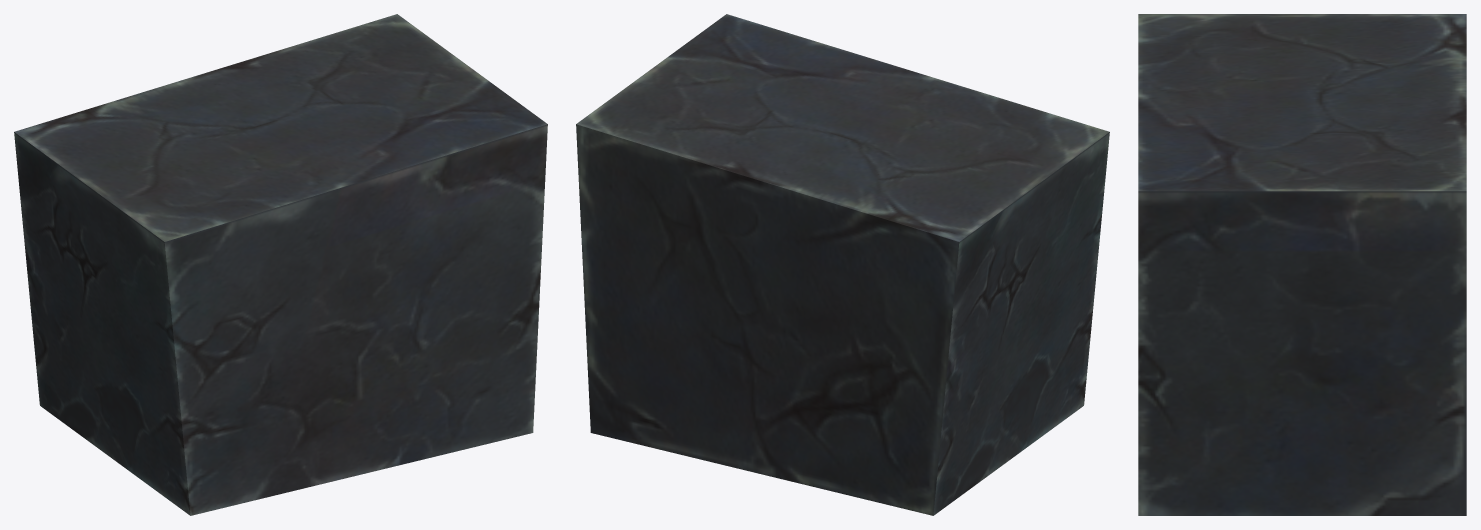
File: B_shikuai014.fbx
The picture shows the model from 3 angles, left to right: view 1: azimuth 30°, elevation 25°; view 2: azimuth 150°, elevation 25°; view 3: azimuth 270°, elevation 25°; orthographic projection. The views are drawn at different scales.
Parts seen in each view (by area): view 1: B_shikuai014; view 2: B_shikuai014; view 3: B_shikuai014.
Boxes of the visible parts, x1,y1,x2,y2 form: B_shikuai014: (14,14,547,515); B_shikuai014: (576,14,1109,515); B_shikuai014: (1138,14,1466,515).
Bounding box in the file's own units: 96.24 × 73.2 × 65.5.
